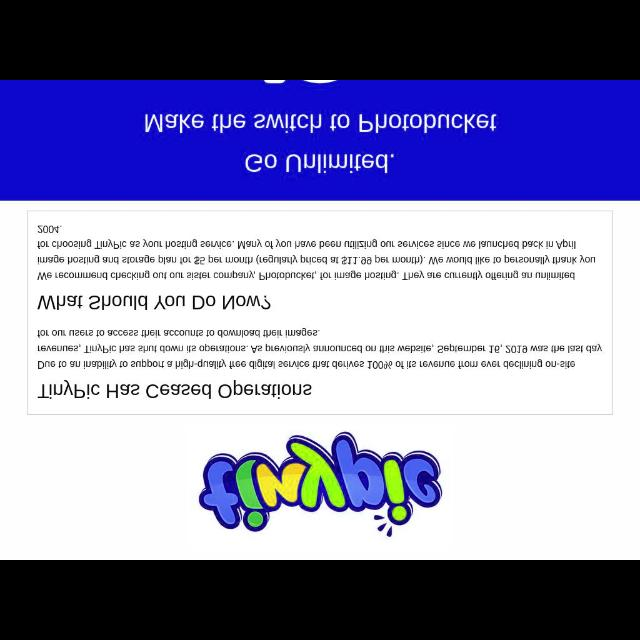image: (199, 432, 443, 536)
text: (36, 225, 596, 281), (36, 327, 602, 369), (146, 112, 498, 134), (38, 380, 312, 400), (37, 294, 271, 310), (245, 151, 395, 173)
